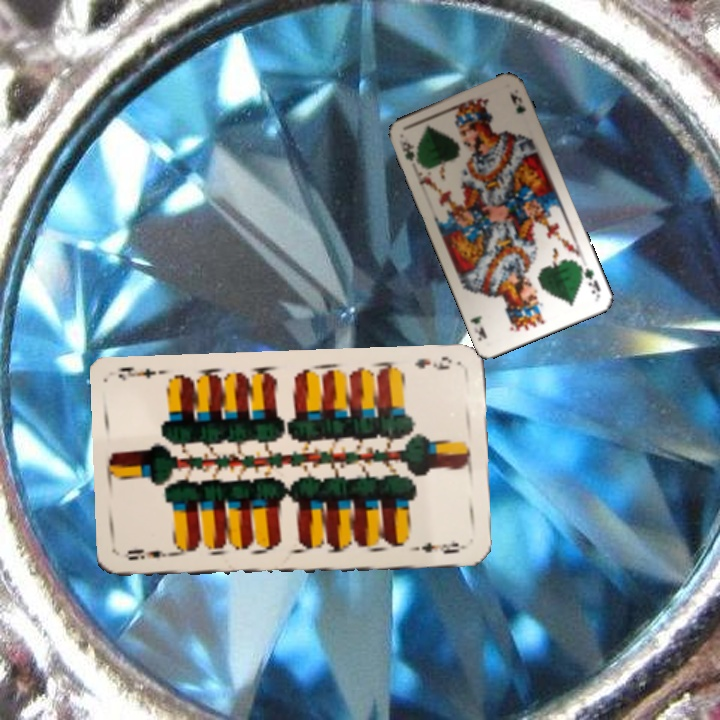E9: (120, 546, 178, 563), (411, 353, 455, 373)
GK: (575, 261, 603, 298), (395, 136, 423, 167)
